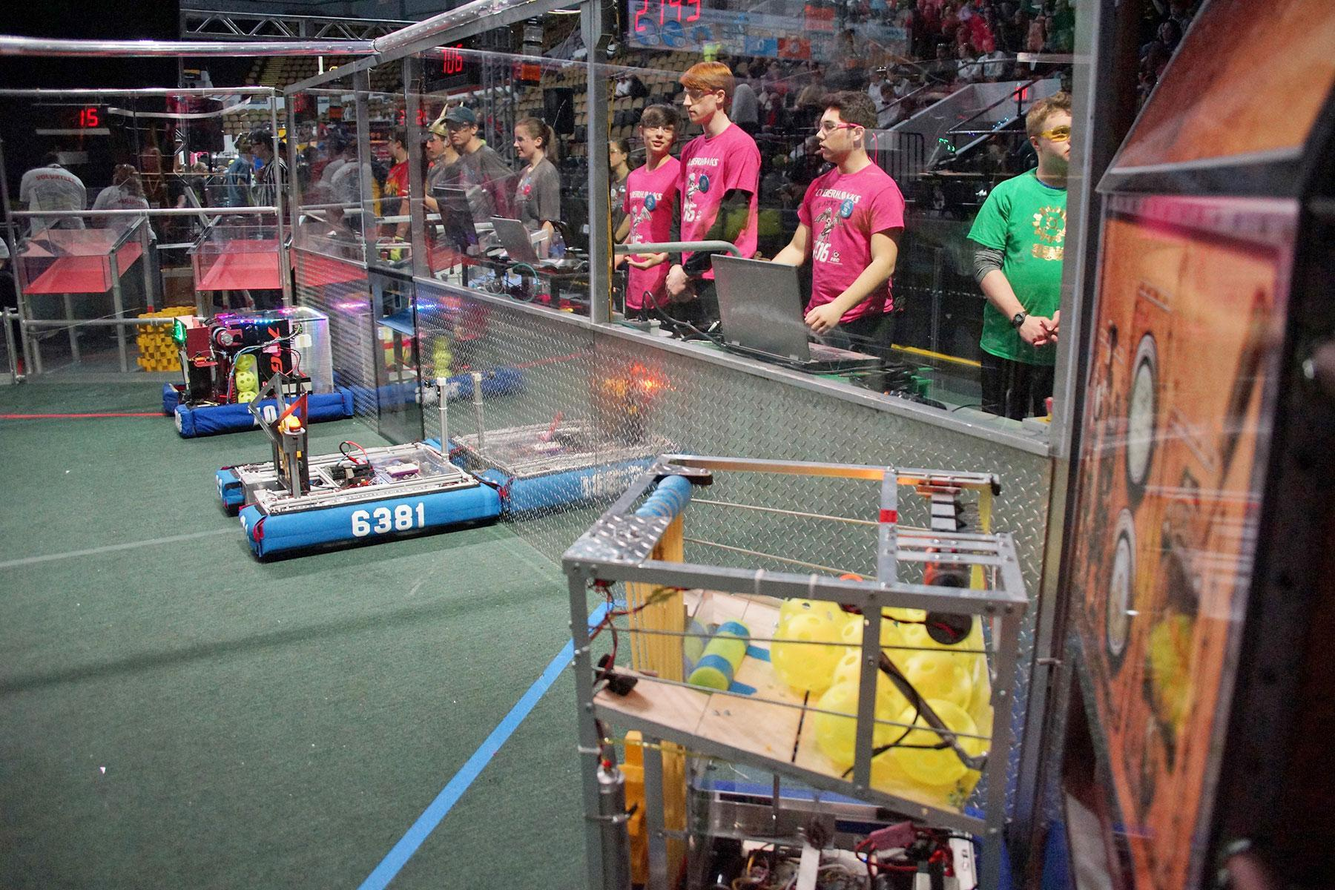robot: (215, 313, 508, 561), (151, 297, 373, 454)
